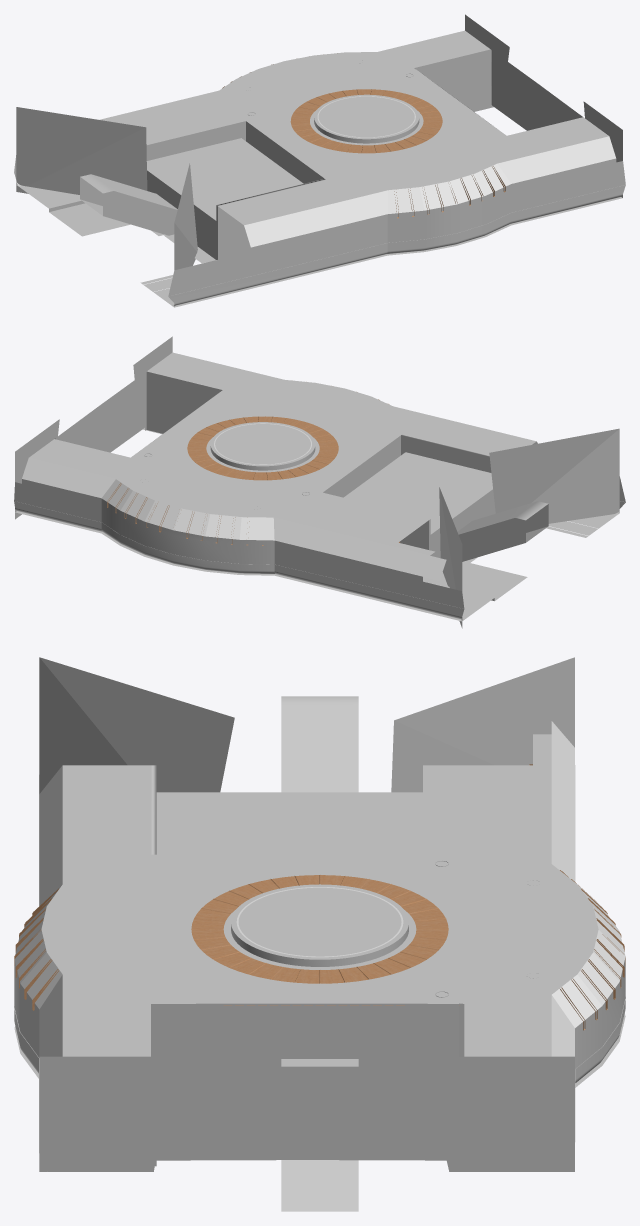
Rendered from WhiteRoom.fbx.
3 renders of one model, top to bottom at view 1: azimuth 30°, elevation 25°; view 2: azimuth 150°, elevation 25°; view 3: azimuth 270°, elevation 25°, orthographic. The views are drawn at different scales.
Visible parts, largest first — view 1: EnvironmentStructure, Window_Front, Maple_Wood, WoodSupport_Front; view 2: EnvironmentStructure, Window_Rear, Maple_Wood; view 3: EnvironmentStructure, Maple_Wood, Window_Rear, Window_Front, WoodSupport_Back, WoodSupport_Front.
Part boxes in pixels (x1,y1,x2,y2): EnvironmentStructure: (14,14,625,307); Window_Front: (244,136,615,247); Maple_Wood: (290,89,442,153); WoodSupport_Front: (394,166,505,218); EnvironmentStructure: (14,336,625,628); Window_Rear: (22,458,446,580); Maple_Wood: (187,416,338,480); EnvironmentStructure: (14,657,625,1211); Maple_Wood: (191,875,448,983); Window_Rear: (551,721,625,1056); Window_Front: (14,765,62,1056); WoodSupport_Back: (529,764,625,1030); WoodSupport_Front: (14,888,58,1010).
Bounding box in the file's own units: 48.31 × 11.82 × 33.05.
